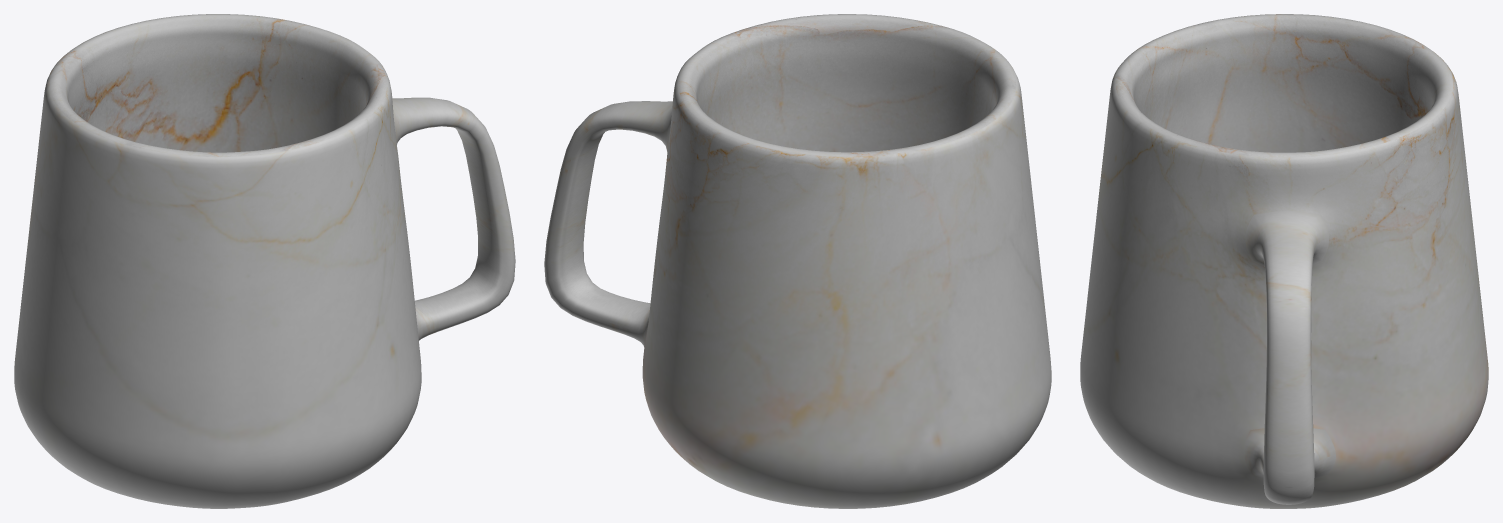
The model's file is mug.fbx.
3 views of the same model, side by side, from view 1: azimuth 30°, elevation 25°; view 2: azimuth 150°, elevation 25°; view 3: azimuth 270°, elevation 25° (orthographic).
Parts seen in each view (by area): view 1: cup; view 2: cup; view 3: cup.
Boxes of the visible parts, bbox=[...] form: cup: bbox=[14, 14, 515, 508]; cup: bbox=[544, 14, 1051, 508]; cup: bbox=[1080, 14, 1488, 508].
Bounding box in the file's own units: 9.66 × 7.12 × 7.26.
1 material, 1 textured.
